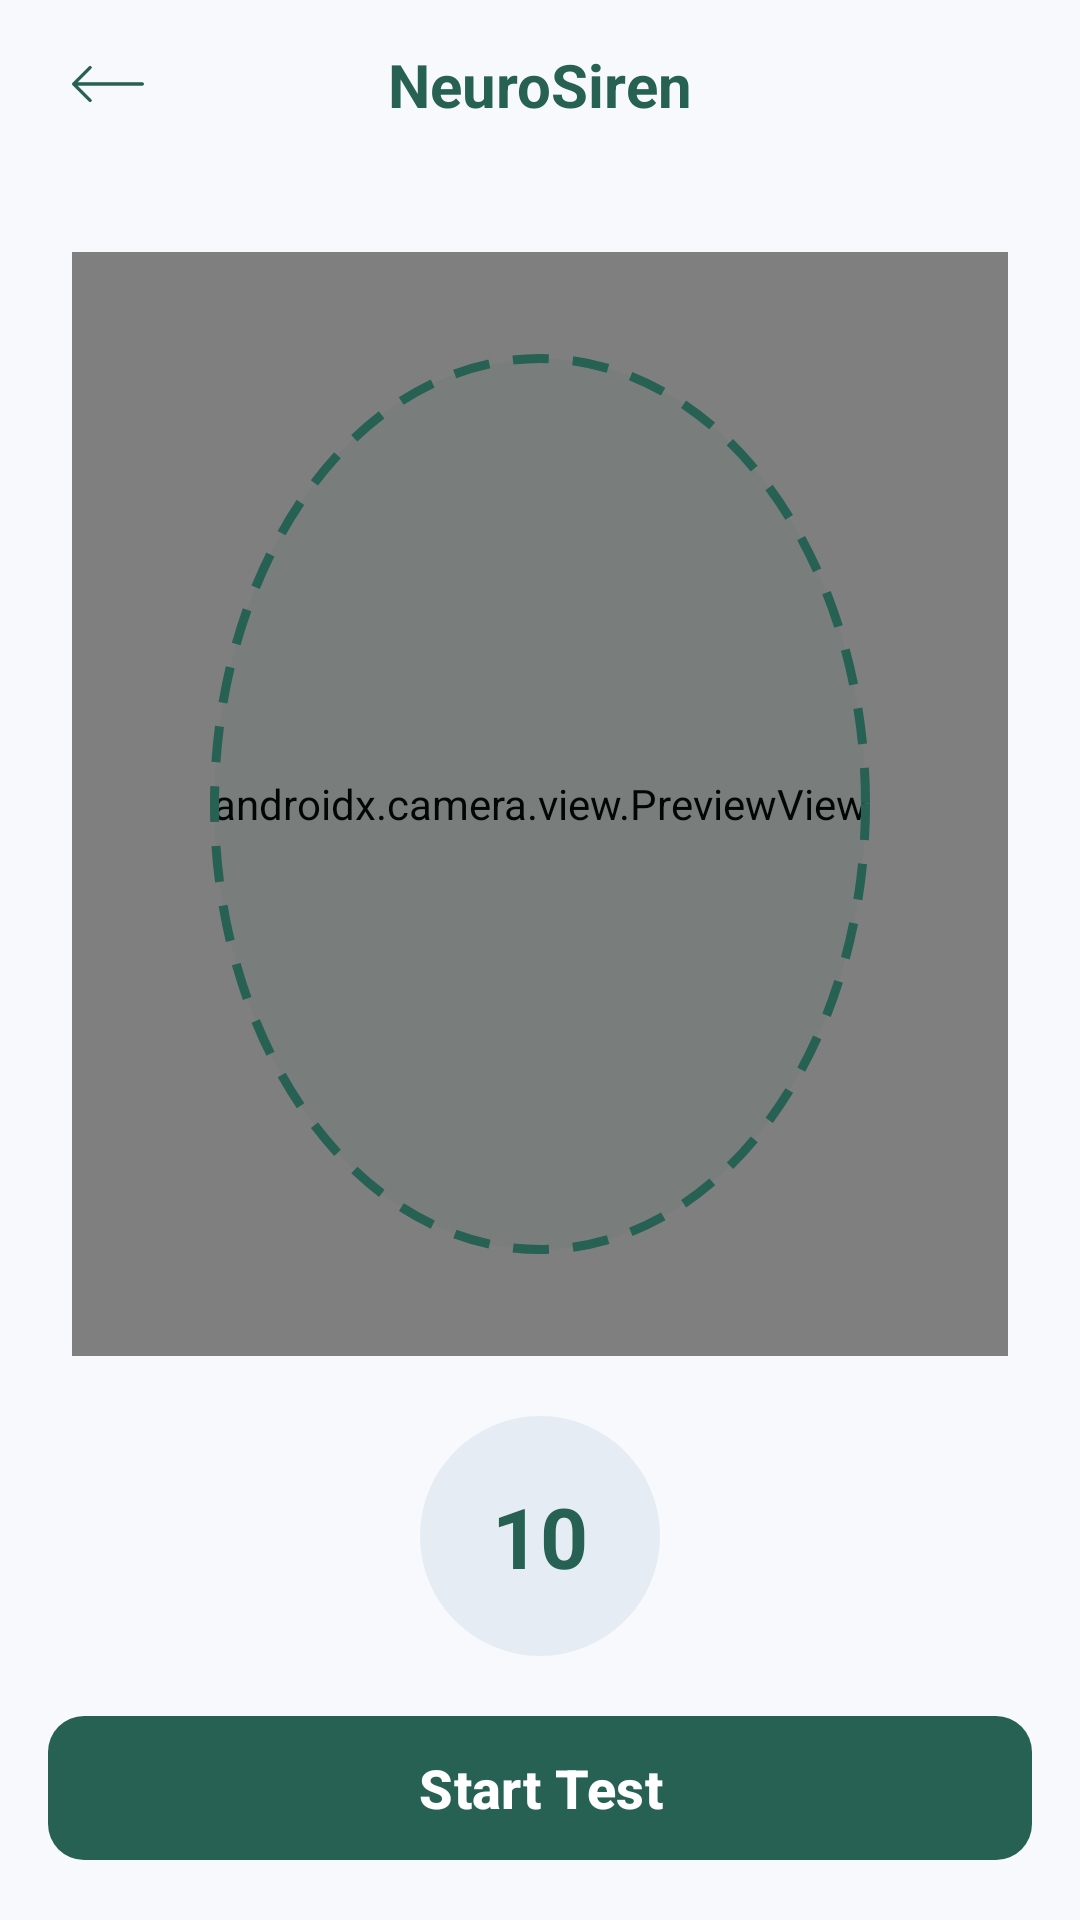

Locate icon controls on the screen. Image size 1080 × 1920, boxes as region(x1, y1, x2, y2).
left arrow: region(72, 66, 144, 102)
